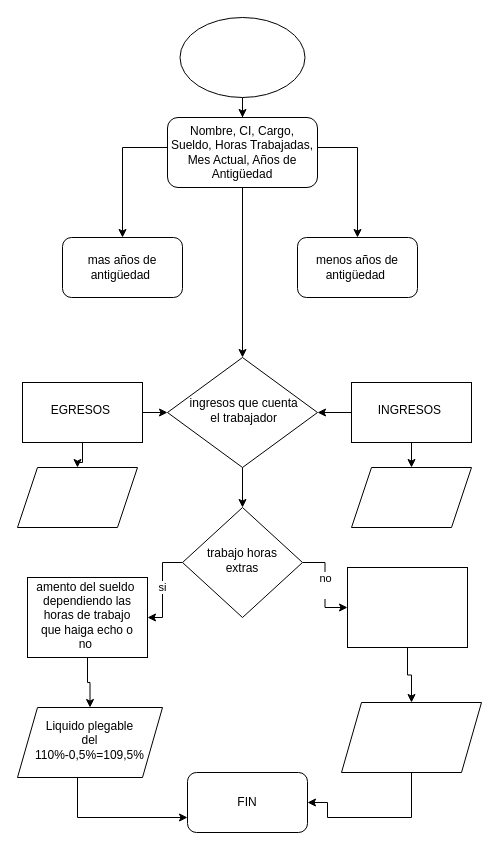
Image size: 499x850. Some labels were removed from this diagram. Each missing label, with the box of its shape:
0,5% Aporte solidario: (16, 466, 138, 528)
haber basico, trabajo basico 100%: (350, 466, 472, 528)
Inicio: (179, 16, 305, 98)
Liquido plegable del 100%-0,5%=99,5%: (340, 702, 482, 772)
sueldo básico sin aumento pero si descuento del aporte solidario: (346, 566, 468, 648)
